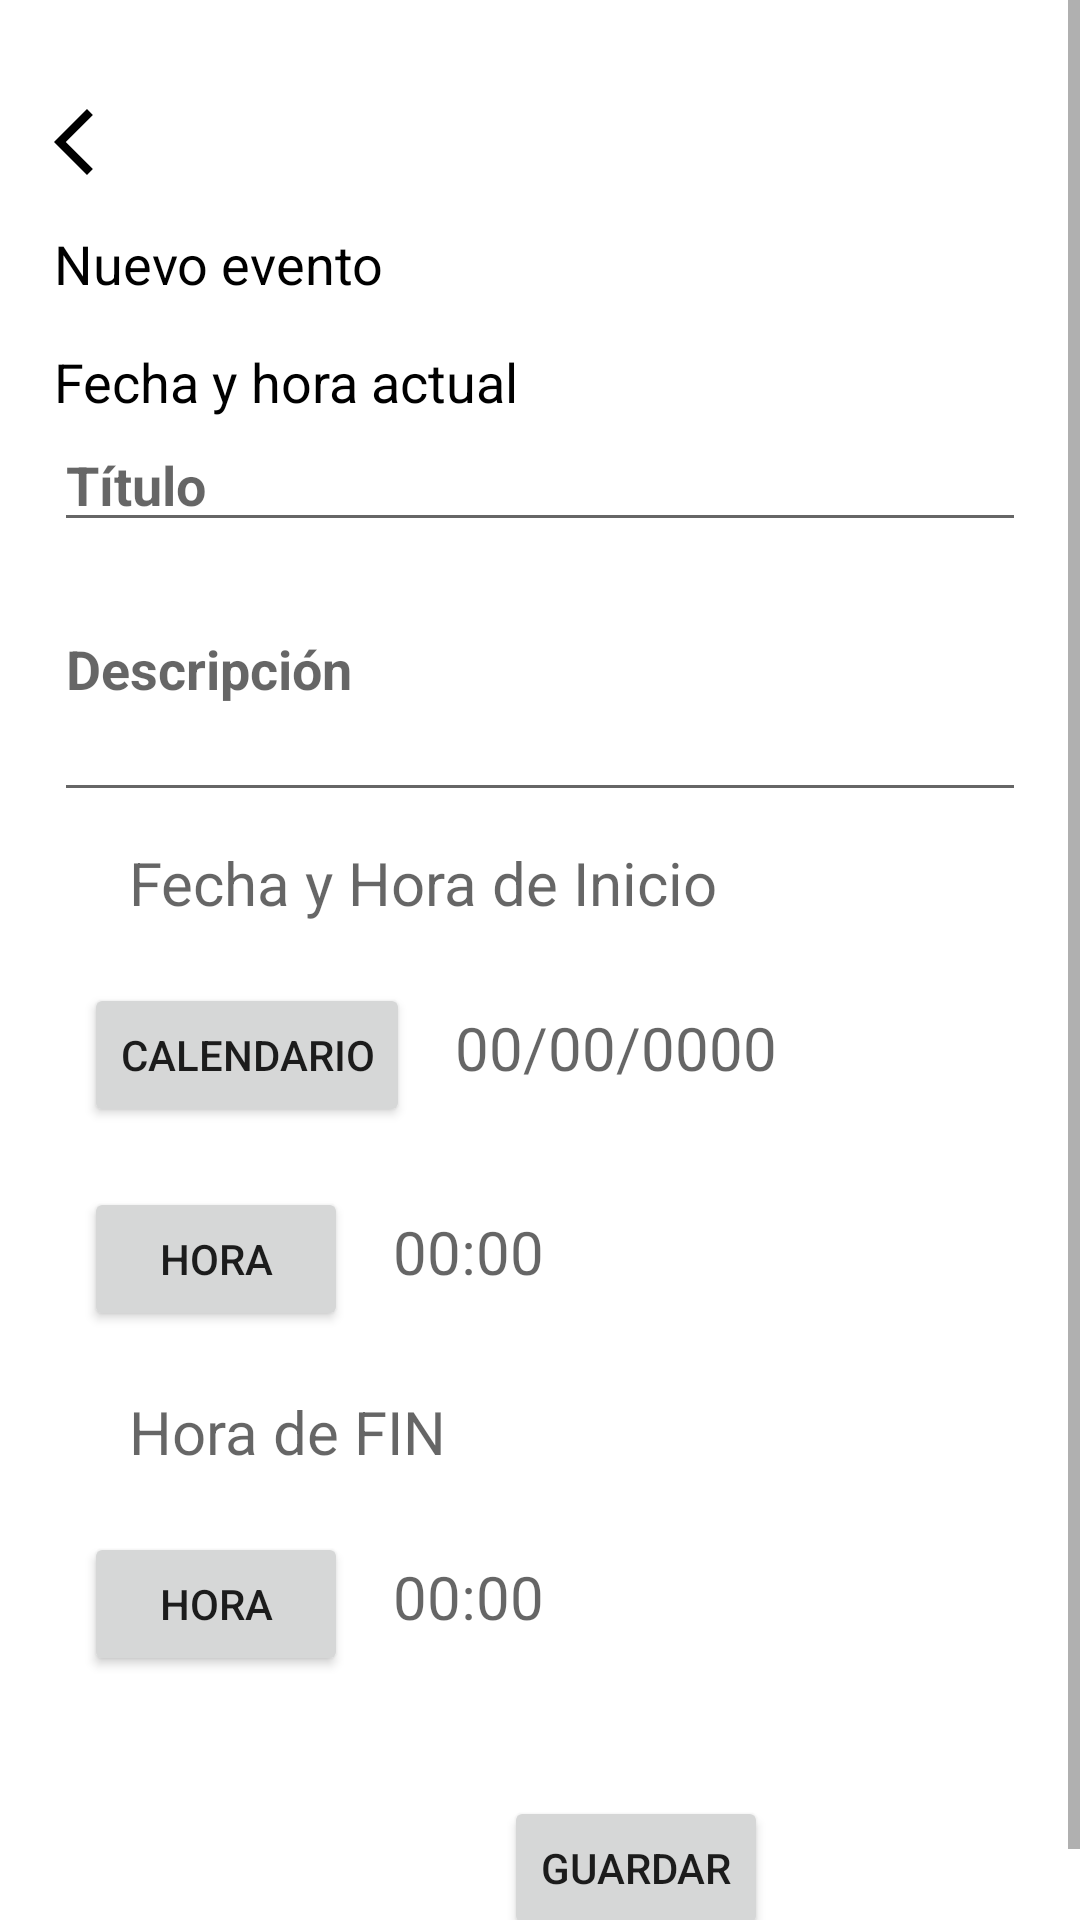

Named icons in this screenshot (1080×1920) and their bounding boxes, bbox=(x1, y1, x2, y2):
arrow back: bbox=(54, 109, 93, 175)
